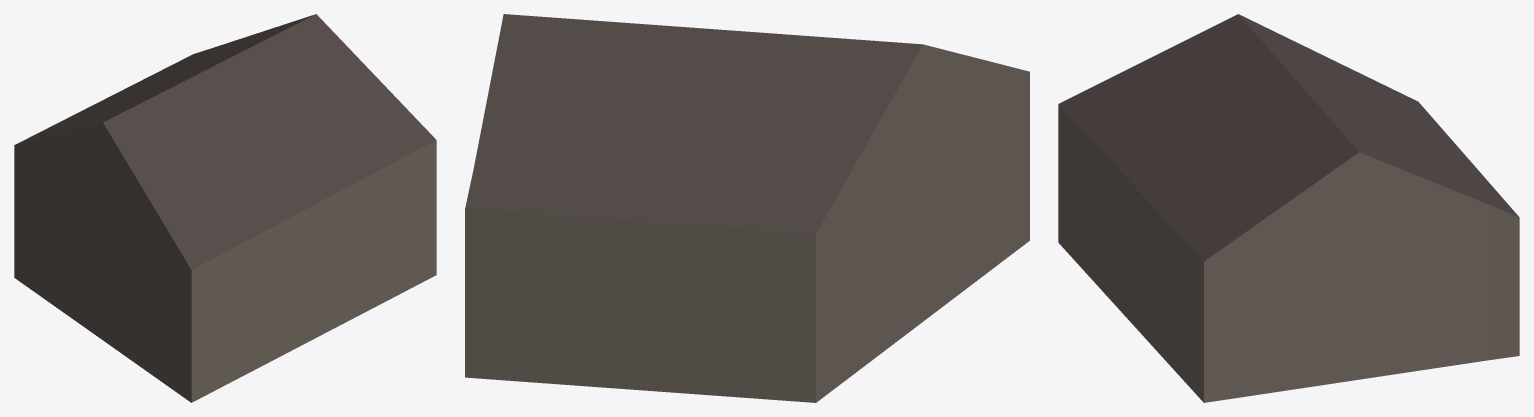
The picture shows the model from 3 angles, left to right: view 1: azimuth 30°, elevation 25°; view 2: azimuth 150°, elevation 25°; view 3: azimuth 270°, elevation 25°; orthographic projection. The views are drawn at different scales.
Visible parts, largest first — view 1: HP-w1198845823; view 2: HP-w1198845823; view 3: HP-w1198845823.
Boxes of the visible parts, x1,y1,x2,y2 form: HP-w1198845823: (14,14,436,402); HP-w1198845823: (465,14,1029,402); HP-w1198845823: (1058,14,1519,402).
Size of the model in its own units: 15.1 by 9.85 by 18.09.
